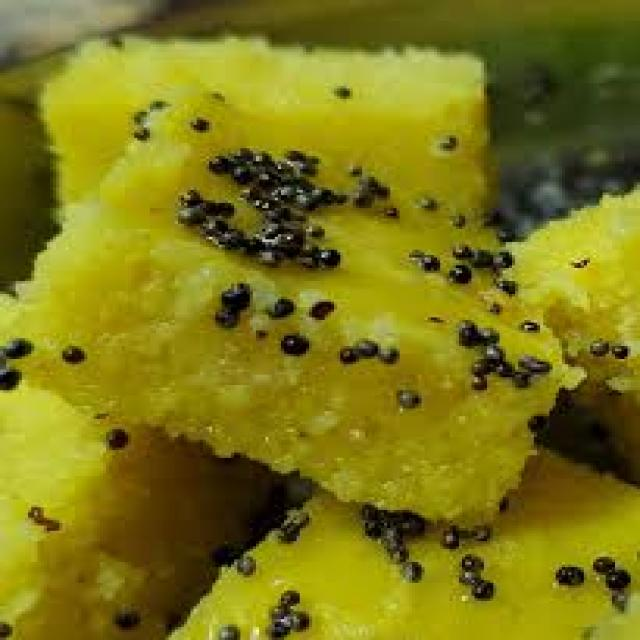DHOKLA: (0, 146, 578, 523), (172, 450, 637, 637), (37, 36, 484, 208), (0, 388, 272, 637), (512, 187, 637, 479)
